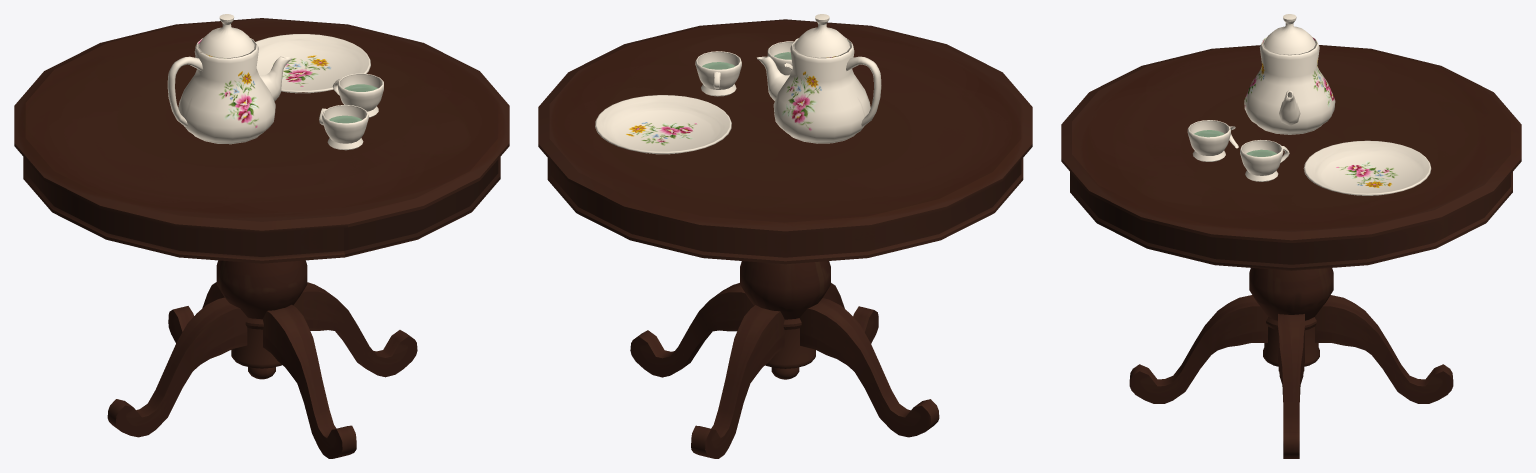
The model's file is table_texture.FBX.
3 renders of one model, left to right at view 1: azimuth 30°, elevation 25°; view 2: azimuth 150°, elevation 25°; view 3: azimuth 270°, elevation 25°, orthographic. The views are drawn at different scales.
Parts seen in each view (by area): view 1: ZZ; view 2: ZZ; view 3: ZZ.
Boxes of the visible parts, x1=… form: ZZ: x1=14, y1=14, x2=509, y2=458; ZZ: x1=538, y1=14, x2=1032, y2=458; ZZ: x1=1061, y1=14, x2=1521, y2=458.
Size of the model in its own units: 55.39 by 48.14 by 54.55.
Materials: 1 (1 with a texture image).
